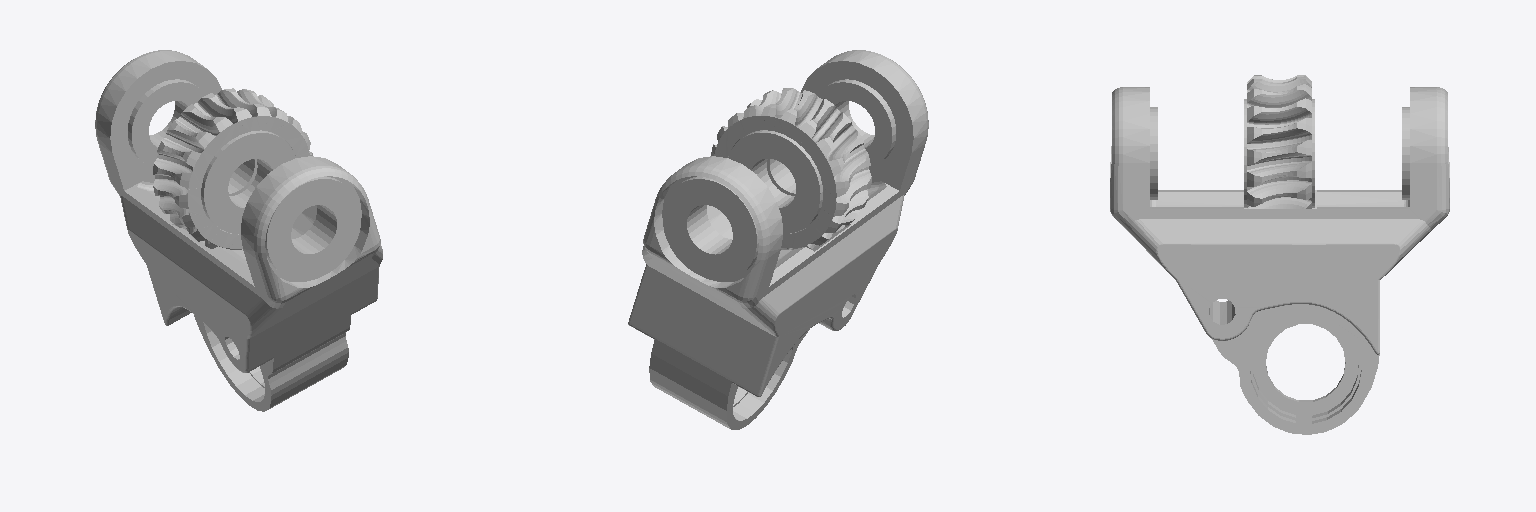
Rendered from thumb_2.obj.
3 views of the same model, side by side, from view 1: azimuth 30°, elevation 25°; view 2: azimuth 150°, elevation 25°; view 3: azimuth 270°, elevation 25° (orthographic).
Visible parts, largest first — view 1: thumb_metacarpals_base2; view 2: thumb_metacarpals_base2; view 3: thumb_metacarpals_base2.
Part boxes in pixels (left/top/right/bottom): thumb_metacarpals_base2: left=95, top=50, right=382, bottom=411; thumb_metacarpals_base2: left=628, top=50, right=928, bottom=429; thumb_metacarpals_base2: left=1110, top=75, right=1449, bottom=434.
Bounding box in the file's own units: 0.0157 × 0.0268 × 0.0256.